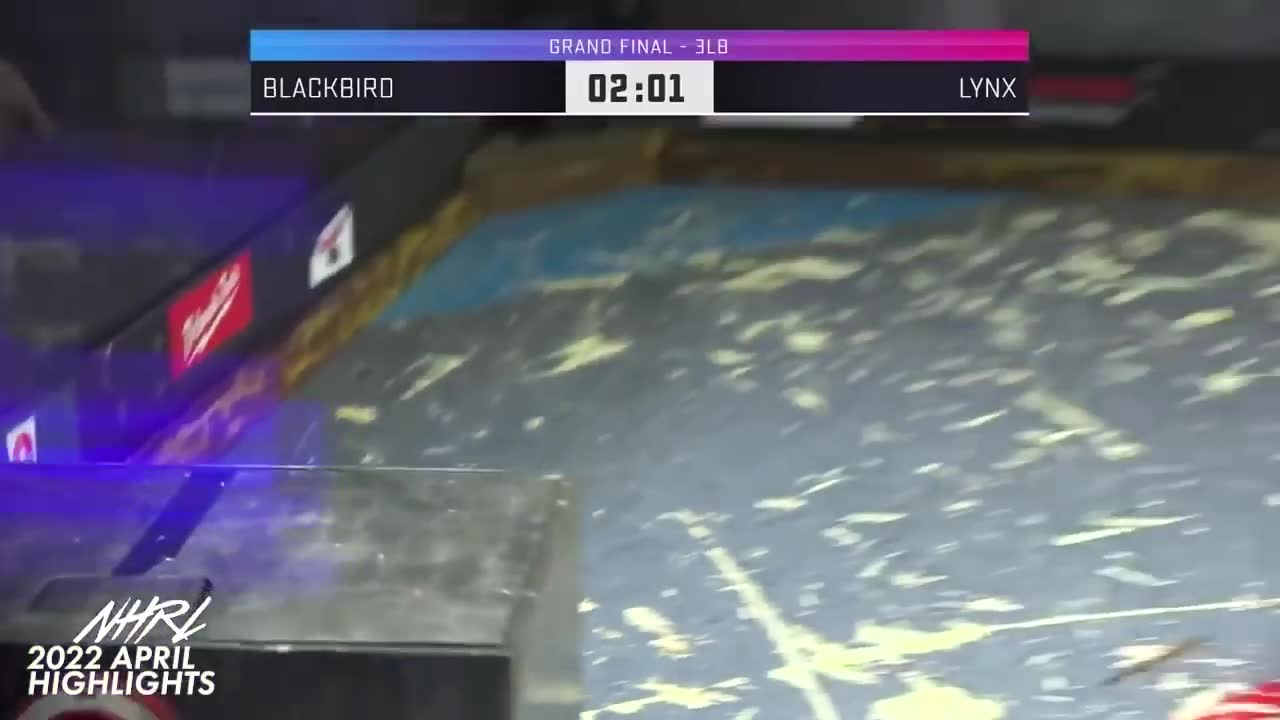housebot: (0, 459, 582, 720)
